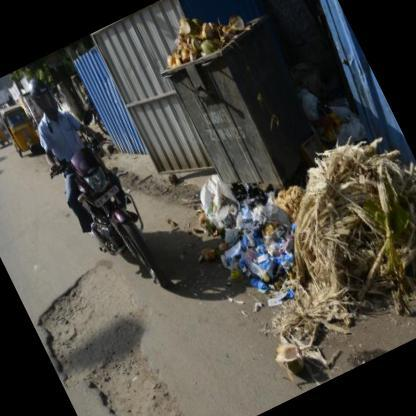Garbage: (198, 175, 292, 286), (157, 0, 249, 67), (262, 186, 309, 258)
